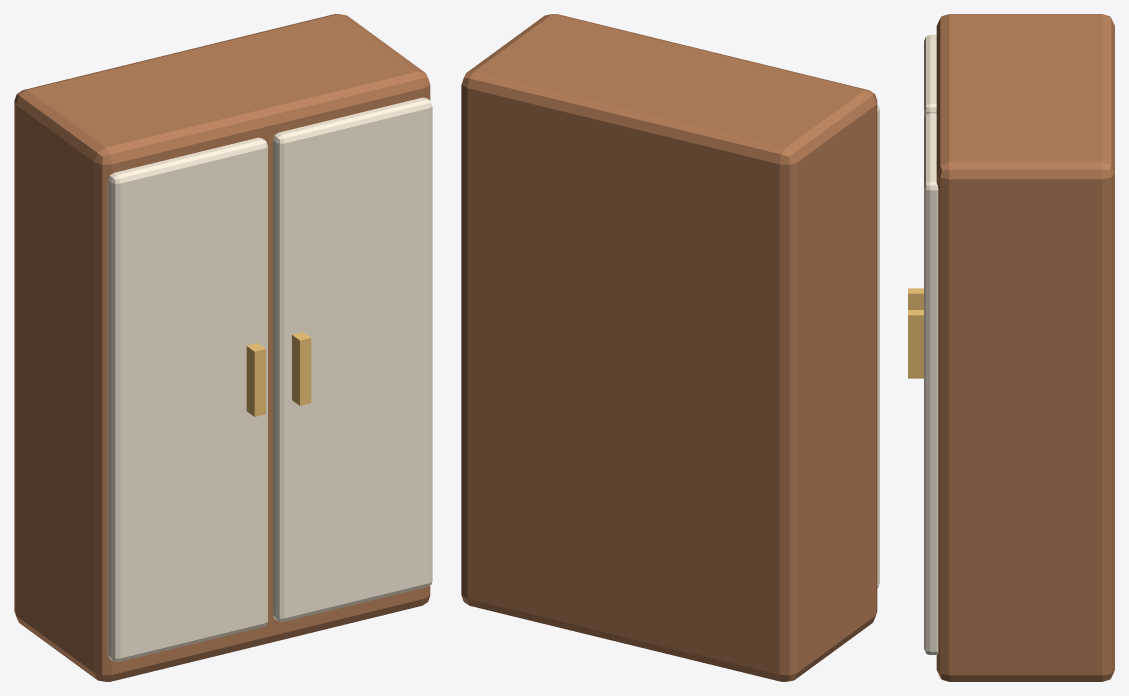
The model's file is prop_lemari.fbx.
The picture shows the model from 3 angles, left to right: view 1: azimuth 30°, elevation 25°; view 2: azimuth 150°, elevation 25°; view 3: azimuth 270°, elevation 25°; orthographic projection. The views are drawn at different scales.
Parts seen in each view (by area): view 1: prop_lemari; view 2: prop_lemari; view 3: prop_lemari.
Boxes of the visible parts, x1,y1,x2,y2 form: prop_lemari: (14, 14, 432, 681); prop_lemari: (461, 14, 879, 681); prop_lemari: (908, 14, 1114, 681).
Size of the model in its own units: 118 by 180 by 65.
1 material, 1 textured.
